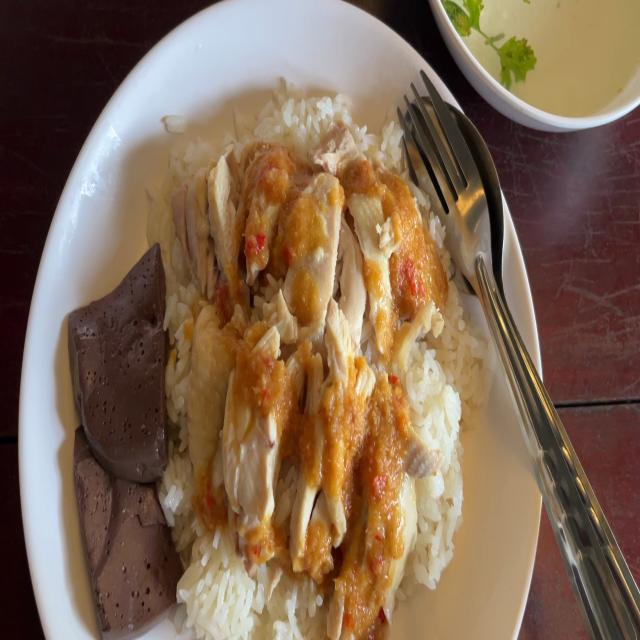boiled_chicken: (193, 160, 427, 569)
boiled_chicken_blood_jelly: (63, 246, 175, 634), (70, 424, 183, 636)
chicken_rice: (66, 89, 486, 640)
